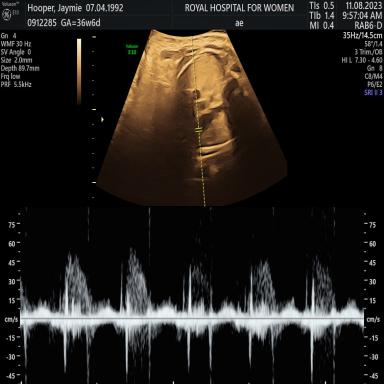Ultrasound-Waves: (18, 208, 364, 383)
